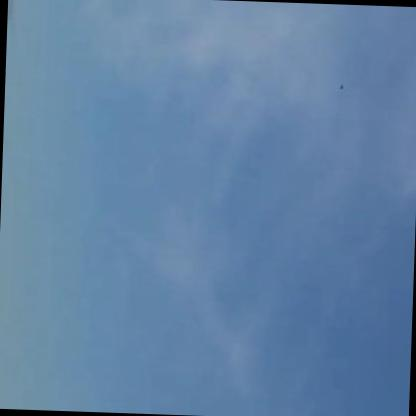plane: (337, 83, 347, 91)
